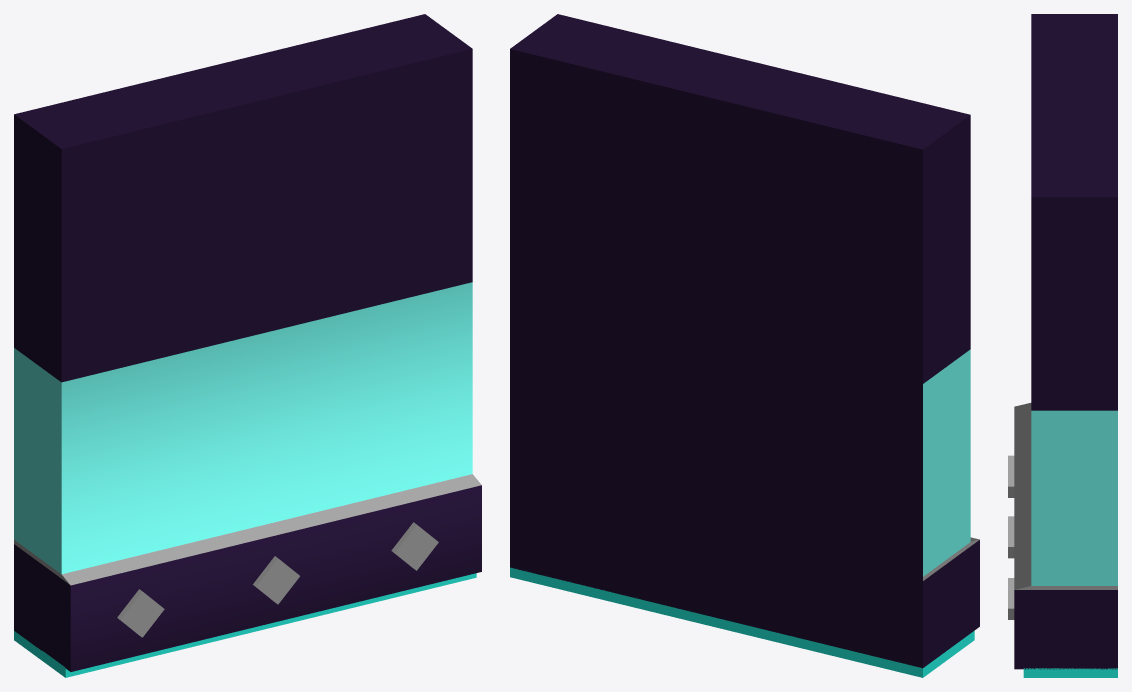
The model's file is pared.FBX.
The picture shows the model from 3 angles, left to right: view 1: azimuth 30°, elevation 25°; view 2: azimuth 150°, elevation 25°; view 3: azimuth 270°, elevation 25°; orthographic projection. The views are drawn at different scales.
Parts seen in each view (by area): view 1: Box001; view 2: Box001; view 3: Box001.
Boxes of the visible parts, x1=… form: Box001: x1=14, y1=14, x2=481, y2=677; Box001: x1=510, y1=14, x2=979, y2=677; Box001: x1=1008, y1=14, x2=1117, y2=677.
Size of the model in its own units: 71.6 by 87.52 by 18.15.
